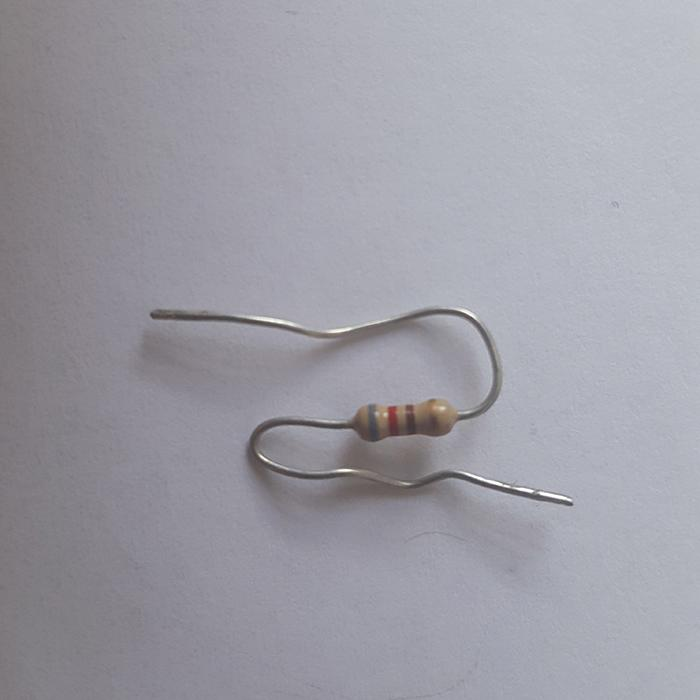resistor: (352, 398, 458, 442)
